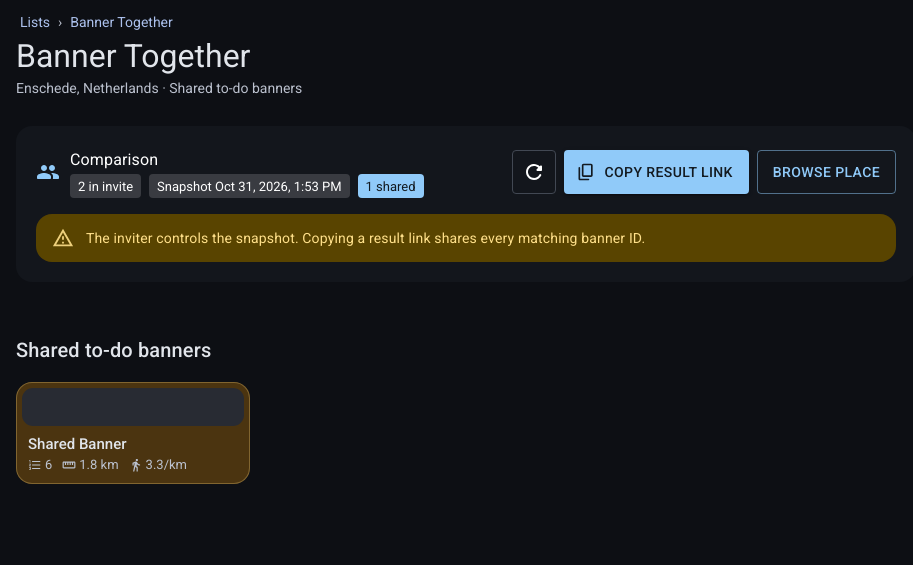
Test: shows only banners on both agents' to-do lists
The width and height of the screenshot is (913, 565).
Expected: the text "Shared Banner" is shown, [28,435,126,453]
Expected: the text "2 in invite" is shown, [78,178,133,194]
Click the button "Copy result link". click: [657, 172]
box: [564,150,749,194]
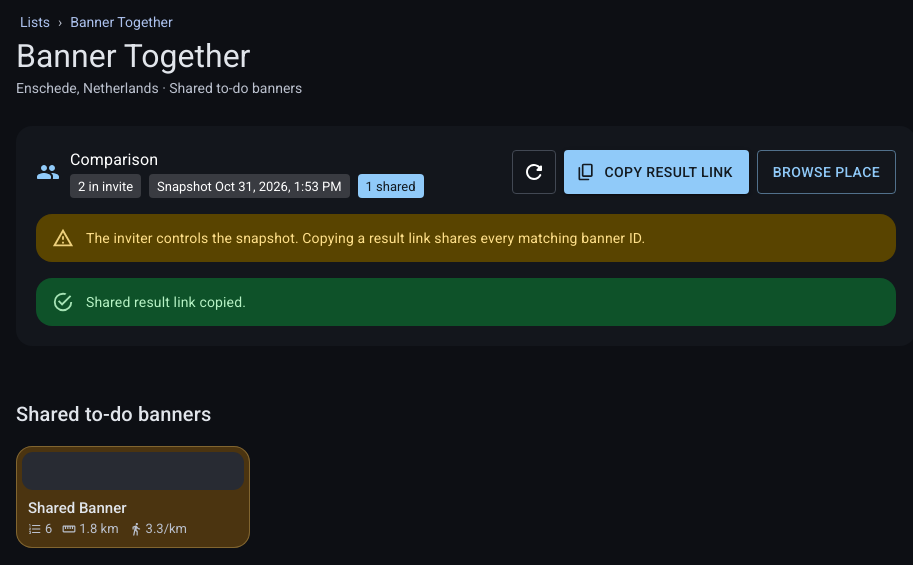
Now the text "Shared result link copied." is shown, box [86,294,246,310]
